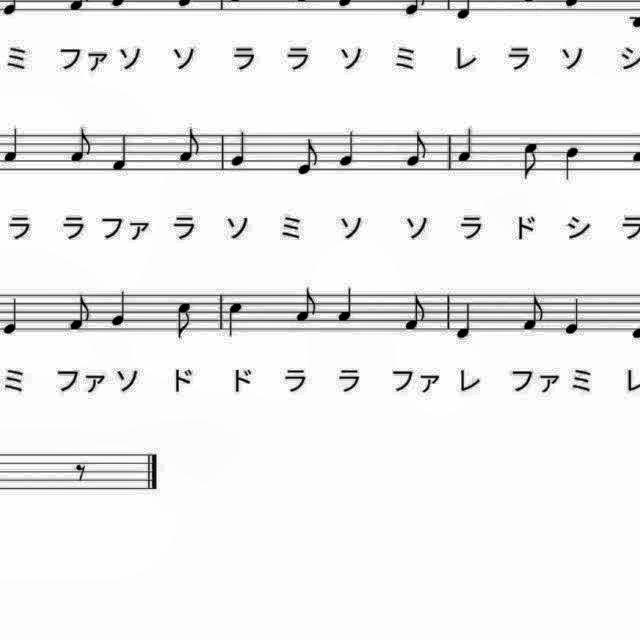Eighth-note: (64, 289, 96, 335), (518, 289, 550, 335), (64, 122, 96, 166), (401, 289, 431, 335), (293, 133, 323, 179), (402, 128, 432, 172), (293, 284, 323, 328), (174, 122, 204, 166), (174, 299, 202, 346), (518, 139, 546, 185)
Eighth-rest: (71, 457, 93, 485)
Quarter-note: (560, 292, 586, 340), (107, 286, 133, 332), (107, 130, 133, 176), (453, 298, 479, 344), (335, 284, 361, 328), (0, 293, 24, 339), (222, 299, 248, 341), (560, 142, 584, 186), (338, 126, 362, 170), (228, 126, 252, 170), (0, 123, 24, 166), (455, 124, 479, 166)
